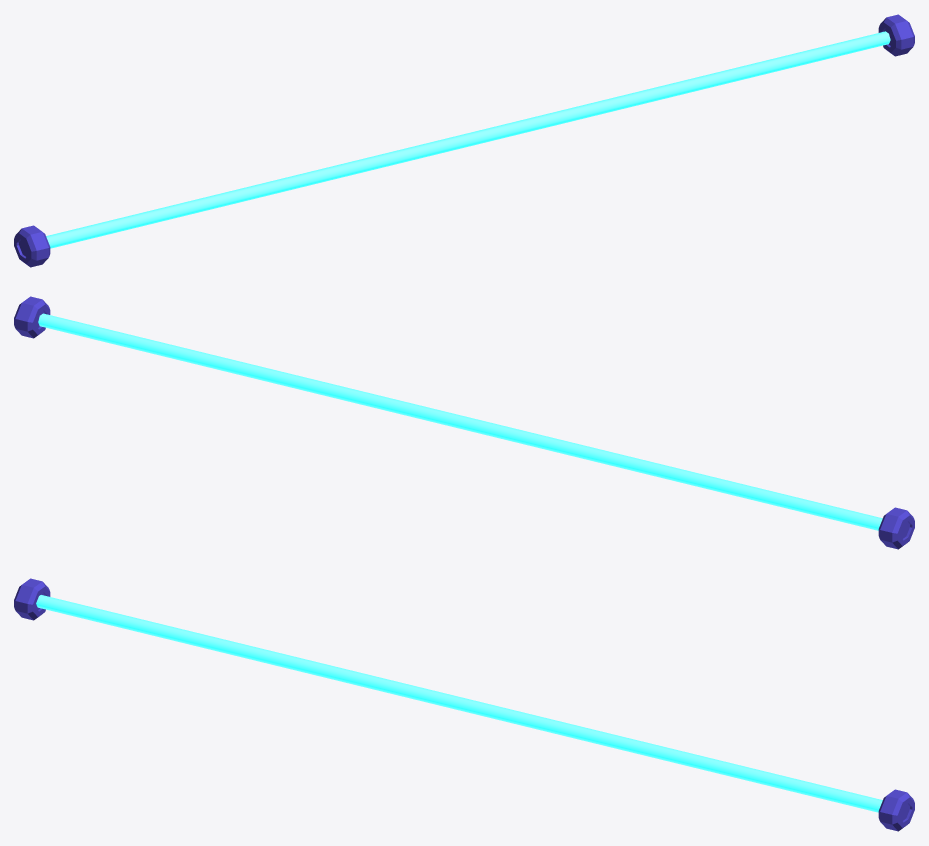
File: Laser.FBX
3 renders of one model, top to bottom at view 1: azimuth 30°, elevation 25°; view 2: azimuth 150°, elevation 25°; view 3: azimuth 330°, elevation 25°, orthographic.
Parts seen in each view (by area): view 1: Laser; view 2: Laser; view 3: Laser.
Part boxes in pixels (left/top/right/bottom): Laser: left=14, top=14, right=914, bottom=267; Laser: left=14, top=296, right=914, bottom=549; Laser: left=14, top=578, right=914, bottom=831.
Size of the model in its own units: 38.58 by 1.37 by 1.62.
